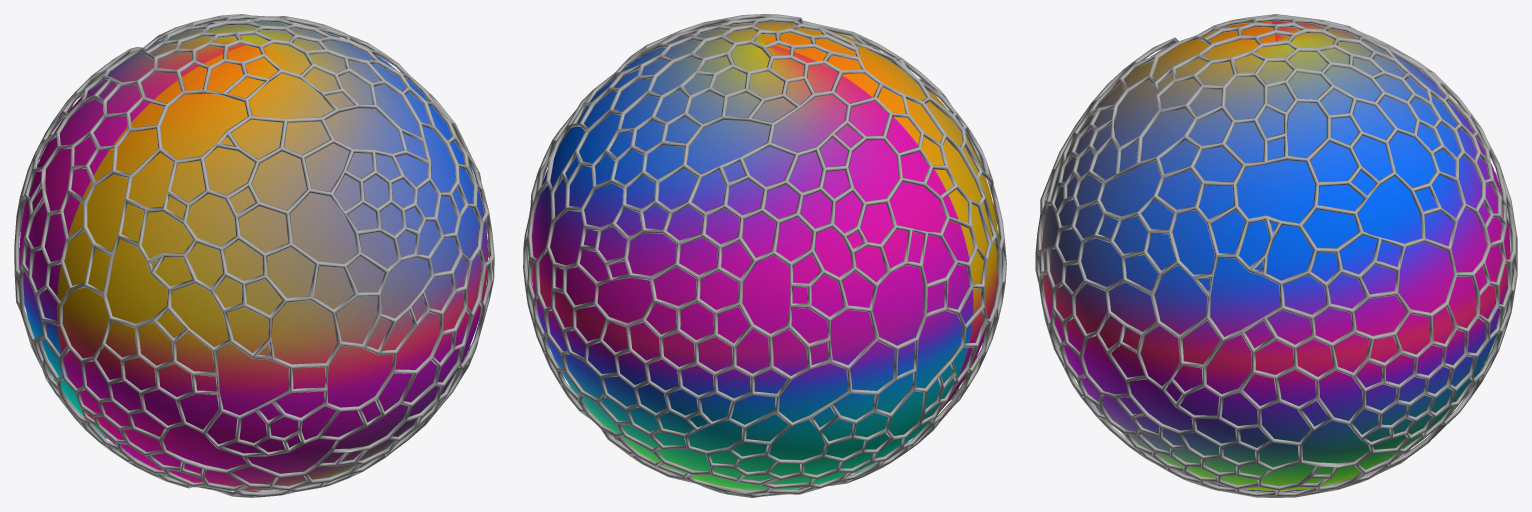
File: studio_3_ball.glb
The picture shows the model from 3 angles, left to right: view 1: azimuth 30°, elevation 25°; view 2: azimuth 150°, elevation 25°; view 3: azimuth 270°, elevation 25°; orthographic projection.
Parts seen in each view (by area): view 1: Sphere, ICO球; view 2: Sphere, ICO球; view 3: Sphere, ICO球.
Boxes of the visible parts, box(x1,y1,x2,y2) form: Sphere: box(19, 21, 487, 490); ICO球: box(14, 14, 494, 497); Sphere: box(532, 21, 998, 489); ICO球: box(523, 14, 1006, 497); Sphere: box(1042, 21, 1510, 490); ICO球: box(1035, 14, 1517, 497).
Size of the model in its own units: 2 by 2 by 2.
Materials: 2 (1 with a texture image).
